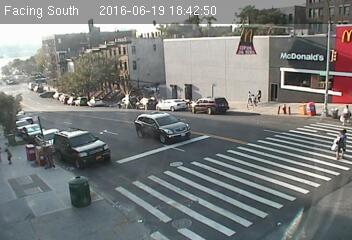neg: (243, 158, 267, 189), (153, 62, 177, 93), (123, 103, 145, 132), (209, 128, 229, 154), (293, 46, 312, 71), (201, 80, 219, 105), (297, 94, 315, 118), (69, 177, 87, 201), (172, 207, 190, 230), (61, 49, 79, 72), (9, 34, 26, 57), (127, 193, 143, 215), (168, 123, 183, 144), (130, 59, 145, 79), (286, 146, 301, 166), (239, 37, 254, 56), (73, 83, 88, 102), (275, 70, 290, 89), (171, 159, 186, 178), (24, 78, 38, 97), (184, 80, 198, 99), (325, 48, 339, 66), (84, 141, 97, 159), (273, 99, 286, 116), (201, 41, 214, 58)
pos: (322, 124, 351, 162), (35, 141, 58, 171), (2, 144, 19, 166), (336, 101, 350, 121), (243, 89, 257, 108), (4, 126, 16, 142), (255, 87, 267, 102)
